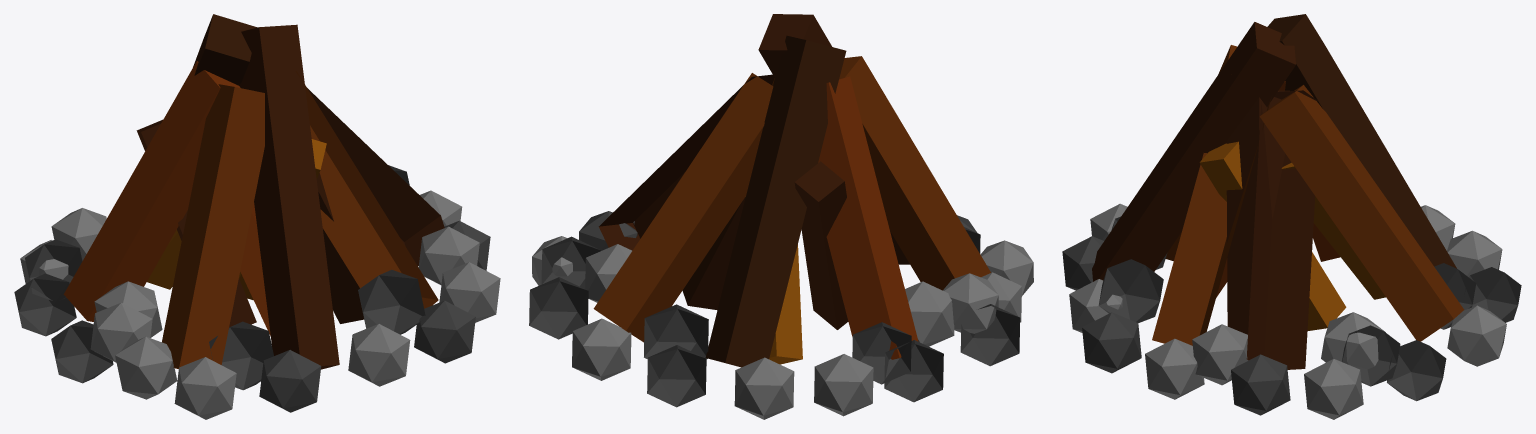
File: CampFire.fbx
3 views of the same model, side by side, from view 1: azimuth 30°, elevation 25°; view 2: azimuth 150°, elevation 25°; view 3: azimuth 270°, elevation 25° (orthographic). The views are drawn at different scales.
Visible parts, largest first — view 1: CampFire; view 2: CampFire; view 3: CampFire.
Boxes of the visible parts, left/top/right/bottom form: CampFire: left=14, top=14, right=500, bottom=419; CampFire: left=529, top=14, right=1033, bottom=419; CampFire: left=1062, top=14, right=1521, bottom=419.
Size of the model in its own units: 182 by 125 by 169.
